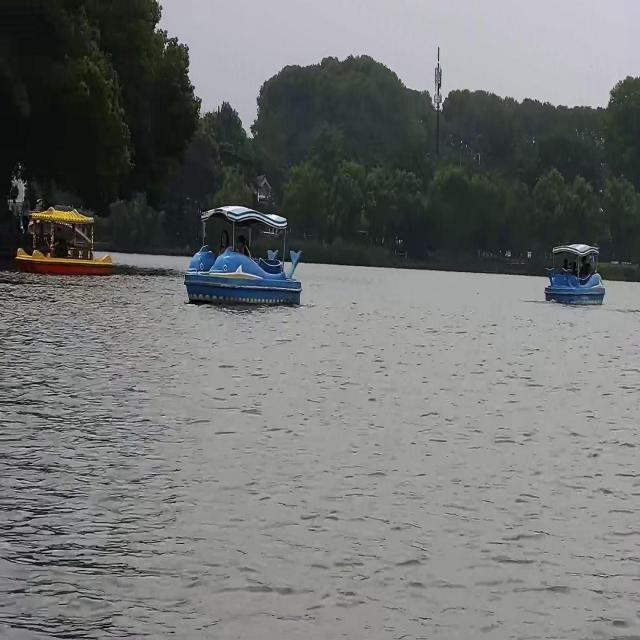CIV_Ship: (186, 200, 300, 306), (13, 202, 112, 278), (542, 232, 609, 322)
